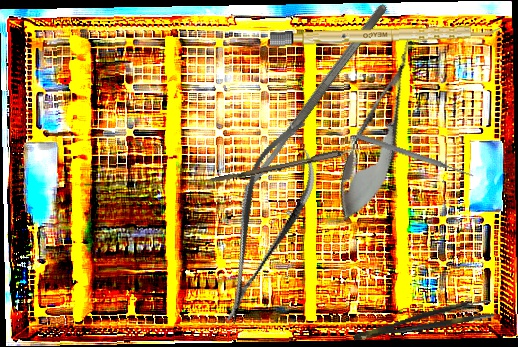Micro Scissor: (197, 111, 334, 333), (325, 32, 433, 230)
Pusher: (356, 132, 475, 180)
Scalpel Handle: (269, 23, 501, 47)
Spatula Surgical: (238, 1, 391, 197)
Surgical Spoon: (211, 137, 389, 187)
Tissue Forceps: (350, 297, 495, 343)
